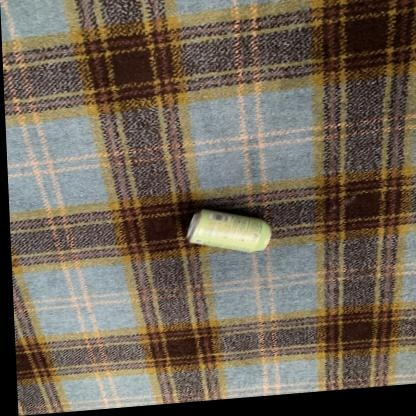trash: (186, 209, 271, 252)
